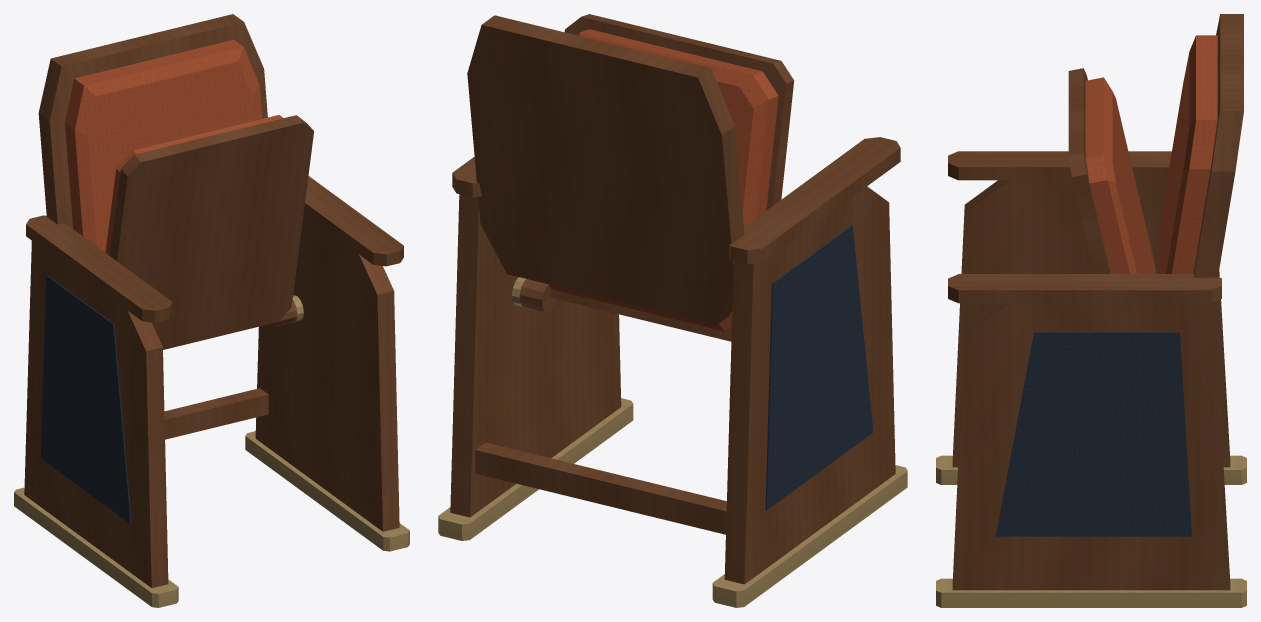
Rendered from AST-CUL-003_folded.glb.
The picture shows the model from 3 angles, left to right: view 1: azimuth 30°, elevation 25°; view 2: azimuth 150°, elevation 25°; view 3: azimuth 270°, elevation 25°; orthographic projection. The views are drawn at different scales.
Parts seen in each view (by area): view 1: AST-CUL-003__static__warm_walnut, AST-CUL-003__PAN_HINGE_X__warm_walnut, AST-CUL-003__static__auditorium_amber_velvet, AST-CUL-003__static__auditorium_navy_fibre, AST-CUL-003__static__champagne_metal, AST-CUL-003__PAN_HINGE_X__auditorium_amber_velvet; view 2: AST-CUL-003__static__warm_walnut, AST-CUL-003__static__auditorium_navy_fibre, AST-CUL-003__static__champagne_metal, AST-CUL-003__PAN_HINGE_X__auditorium_amber_velvet, AST-CUL-003__PAN_HINGE_X__warm_walnut; view 3: AST-CUL-003__static__warm_walnut, AST-CUL-003__static__auditorium_navy_fibre, AST-CUL-003__static__auditorium_amber_velvet, AST-CUL-003__PAN_HINGE_X__auditorium_amber_velvet, AST-CUL-003__static__champagne_metal, AST-CUL-003__PAN_HINGE_X__warm_walnut.
Part boxes in pixels (x1,y1,x2,y2): AST-CUL-003__static__warm_walnut: [24, 14, 403, 587]; AST-CUL-003__PAN_HINGE_X__warm_walnut: [110, 115, 313, 349]; AST-CUL-003__static__auditorium_amber_velvet: [65, 39, 262, 252]; AST-CUL-003__static__auditorium_navy_fibre: [40, 275, 131, 523]; AST-CUL-003__static__champagne_metal: [14, 295, 409, 607]; AST-CUL-003__PAN_HINGE_X__auditorium_amber_velvet: [105, 115, 283, 255]; AST-CUL-003__static__warm_walnut: [450, 15, 900, 584]; AST-CUL-003__static__auditorium_navy_fibre: [765, 225, 873, 510]; AST-CUL-003__static__champagne_metal: [438, 277, 907, 607]; AST-CUL-003__PAN_HINGE_X__auditorium_amber_velvet: [549, 29, 778, 331]; AST-CUL-003__PAN_HINGE_X__warm_walnut: [519, 14, 794, 341]; AST-CUL-003__static__warm_walnut: [948, 14, 1243, 590]; AST-CUL-003__static__auditorium_navy_fibre: [995, 332, 1191, 536]; AST-CUL-003__static__auditorium_amber_velvet: [1159, 35, 1217, 273]; AST-CUL-003__PAN_HINGE_X__auditorium_amber_velvet: [1085, 77, 1156, 273]; AST-CUL-003__static__champagne_metal: [936, 455, 1246, 607]; AST-CUL-003__PAN_HINGE_X__warm_walnut: [1068, 68, 1110, 273].
Size of the model in its own units: 0.688 by 1.1 by 0.65.
Materials: 4 (4 with a texture image).
